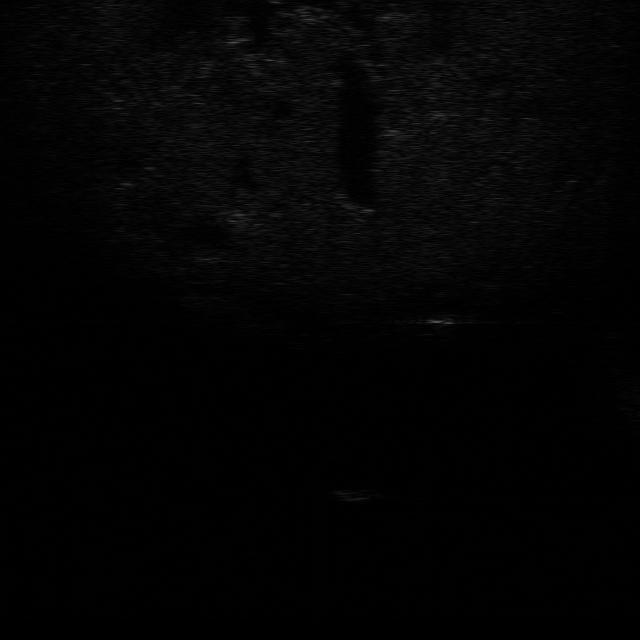cube: (329, 488, 380, 503)
square cage: (420, 308, 459, 330)
